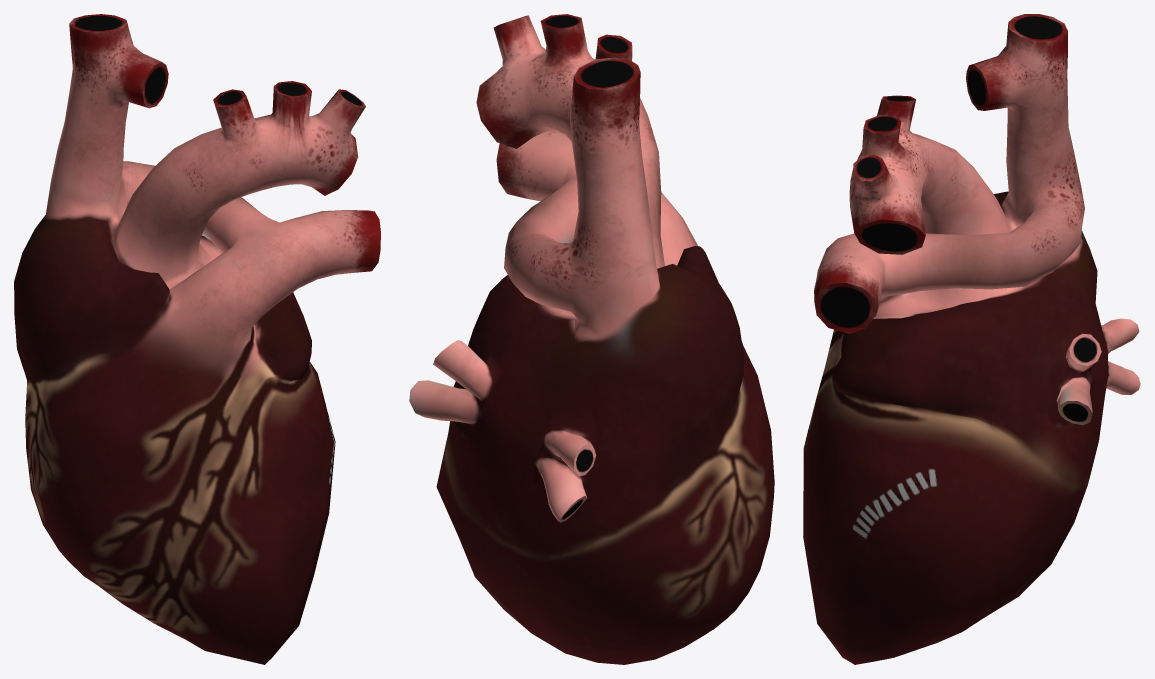
3 views of the same model, side by side, from view 1: azimuth 30°, elevation 25°; view 2: azimuth 150°, elevation 25°; view 3: azimuth 270°, elevation 25° (orthographic). The views are drawn at different scales.
Parts seen in each view (by area): view 1: hr_arteries_0004:polySurface2; view 2: hr_arteries_0004:polySurface2; view 3: hr_arteries_0004:polySurface2.
Boxes of the visible parts, x1,y1,x2,y2 form: hr_arteries_0004:polySurface2: [14, 14, 380, 664]; hr_arteries_0004:polySurface2: [409, 14, 774, 664]; hr_arteries_0004:polySurface2: [803, 14, 1140, 664].
Bounding box in the file's own units: 4.46 × 9.15 × 4.67.
Materials: 1 (1 with a texture image).
